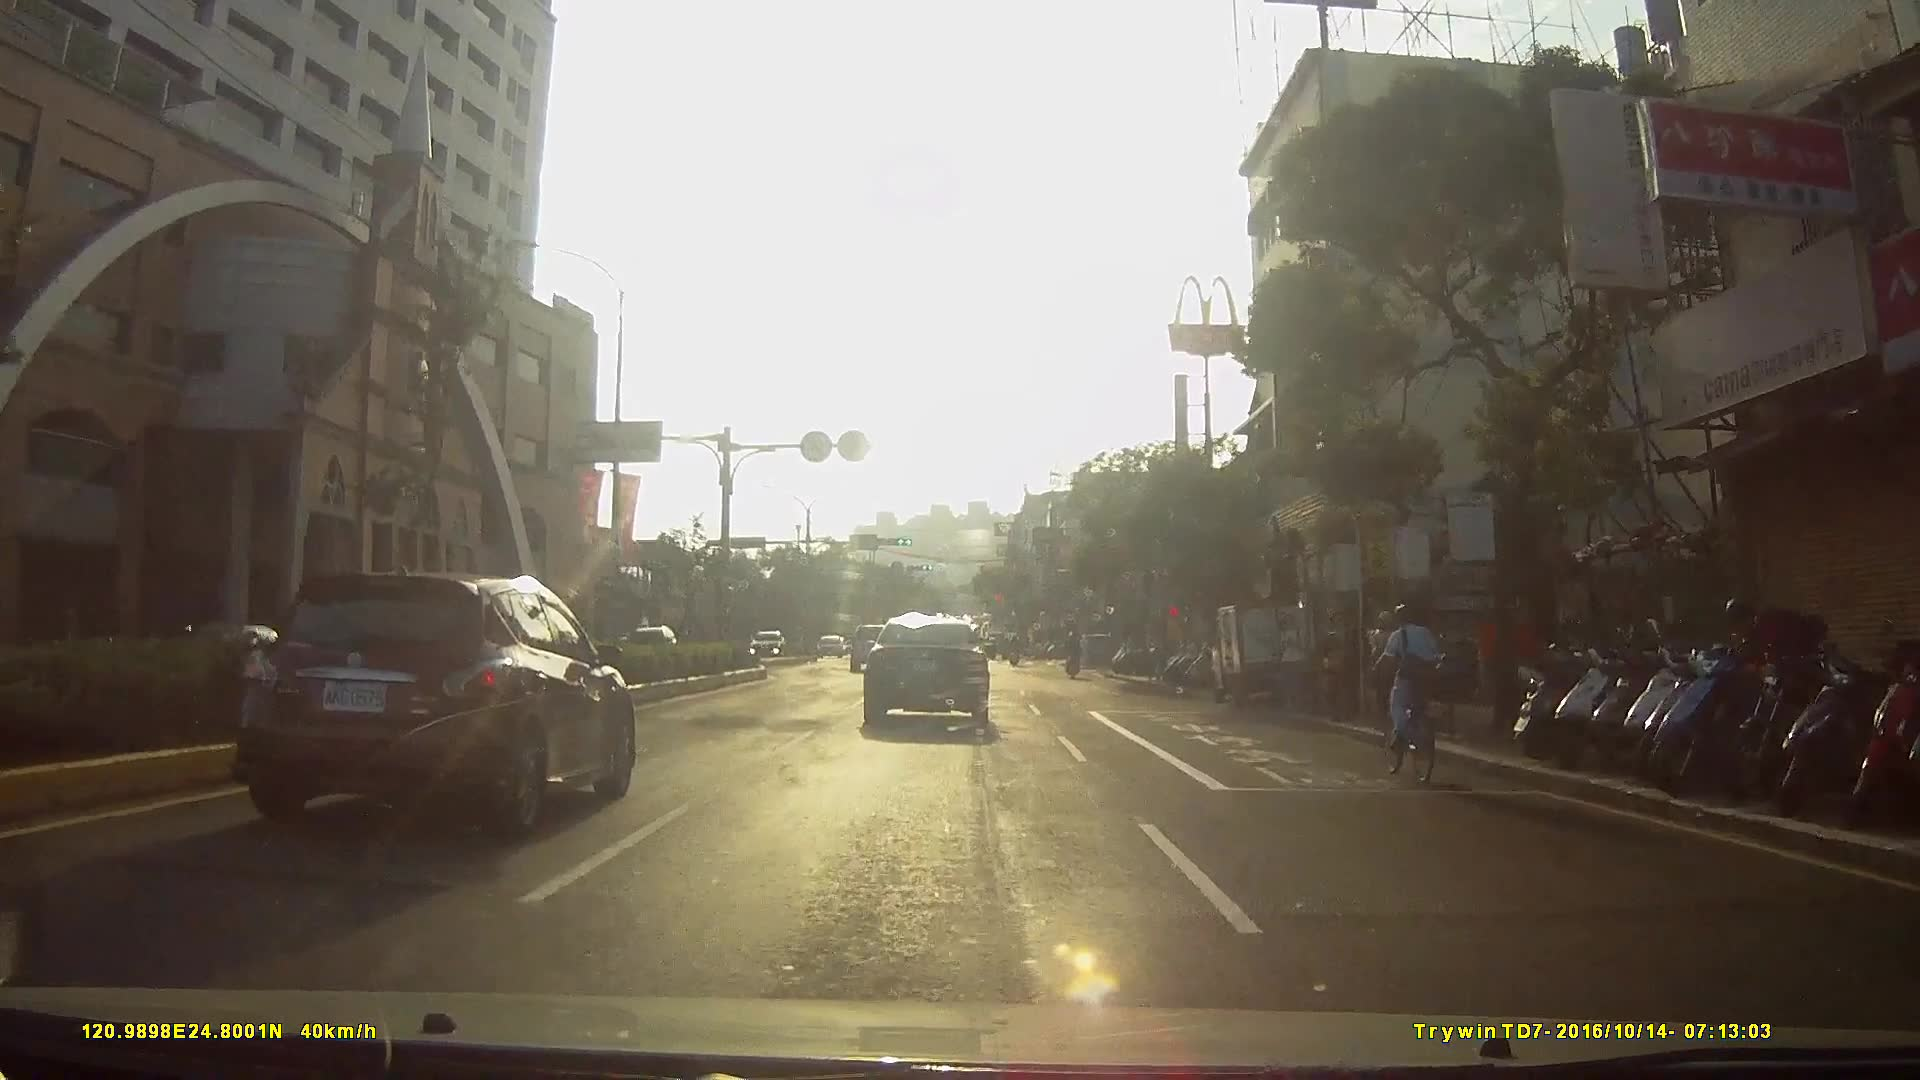pedestrian: (1369, 610, 1415, 729), (1274, 603, 1313, 725)
rider: (1363, 605, 1446, 789), (1065, 626, 1089, 680)
vehicle: (220, 563, 649, 832), (861, 610, 1008, 737), (1216, 592, 1339, 708), (846, 617, 905, 671), (745, 626, 791, 658), (811, 629, 840, 657)
